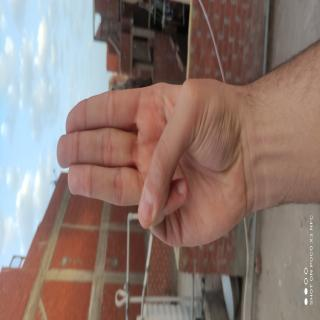THA: (31, 115, 109, 320)
